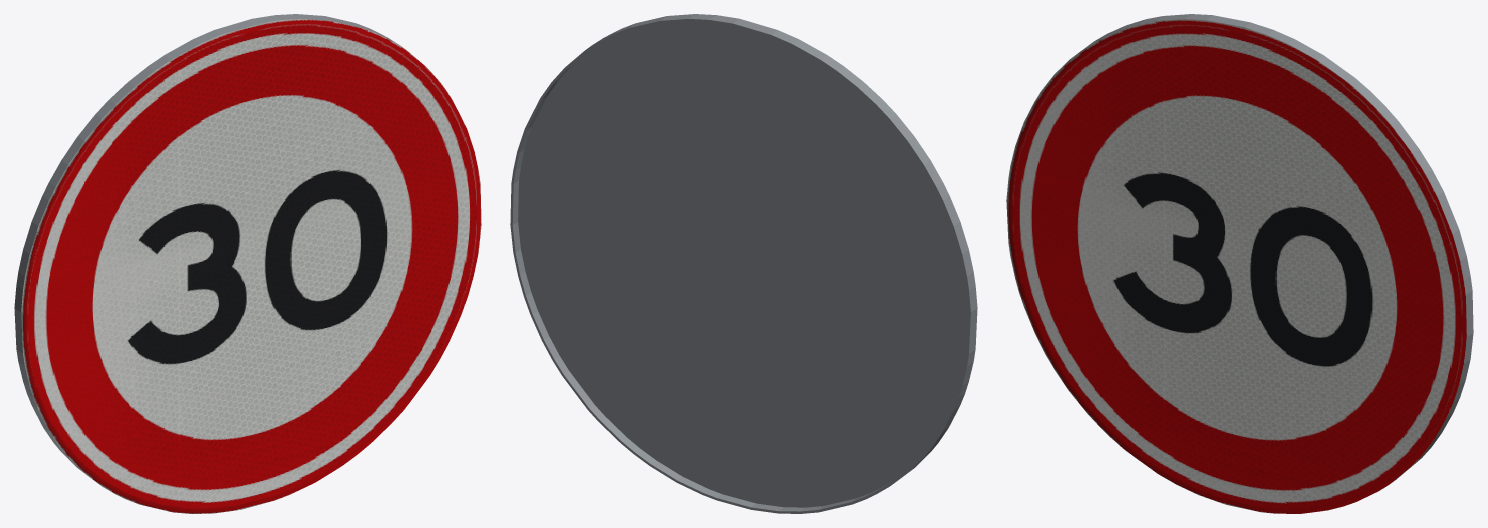
3 renders of one model, left to right at view 1: azimuth 30°, elevation 25°; view 2: azimuth 150°, elevation 25°; view 3: azimuth 330°, elevation 25°, orthographic.
Visible parts, largest first — view 1: cat_8ac2293b9d6a9a53; view 2: cat_8ac2293b9d6a9a53; view 3: cat_8ac2293b9d6a9a53.
Boxes of the visible parts, x1,y1,x2,y2 form: cat_8ac2293b9d6a9a53: (14,14,481,513); cat_8ac2293b9d6a9a53: (510,14,977,513); cat_8ac2293b9d6a9a53: (1006,14,1473,513).
Bounding box in the file's own units: 0.6 × 0.015 × 0.6.
Materials: 2 (1 with a texture image).
